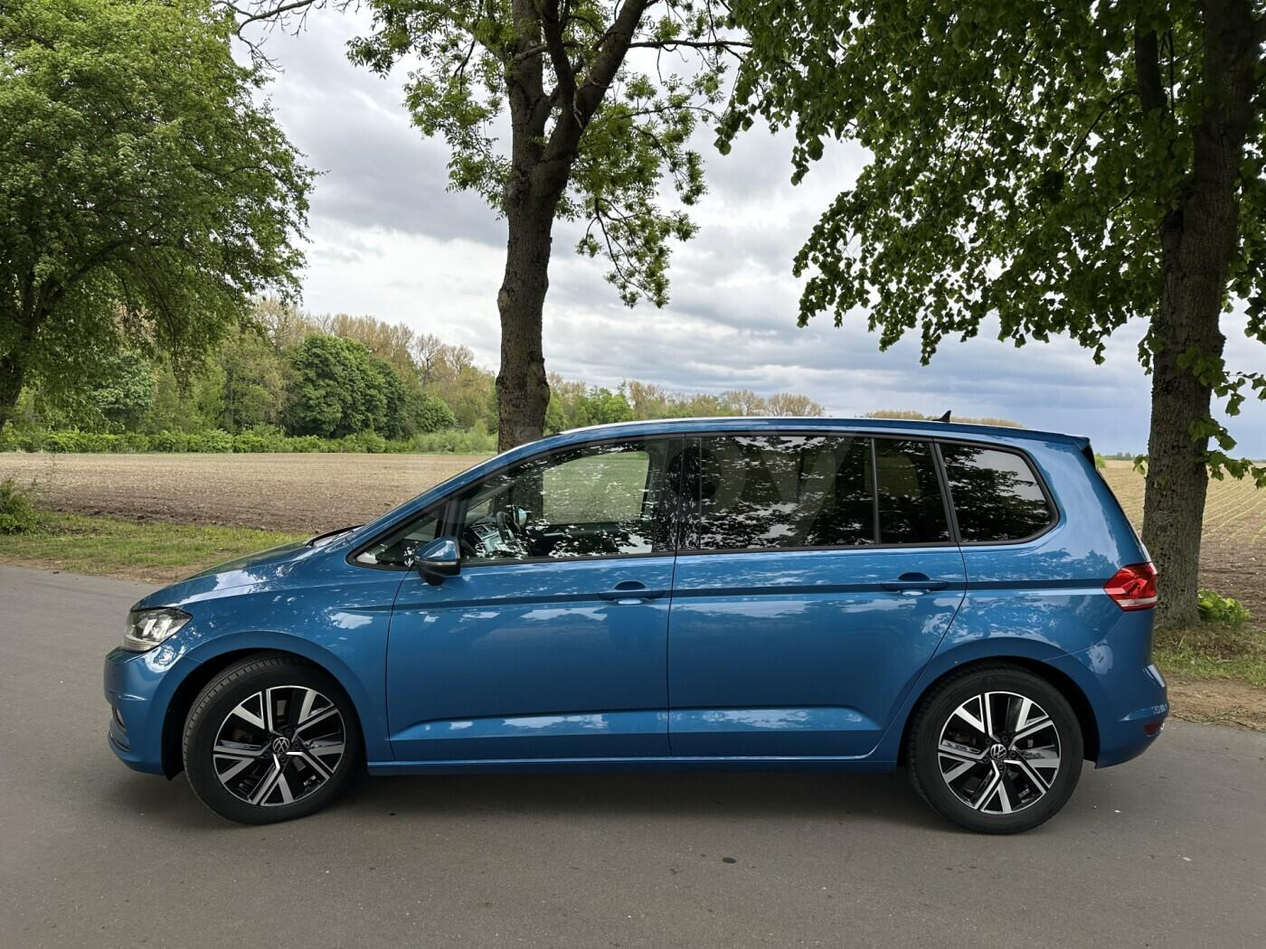Touran_2015: (102, 413, 1174, 841)
